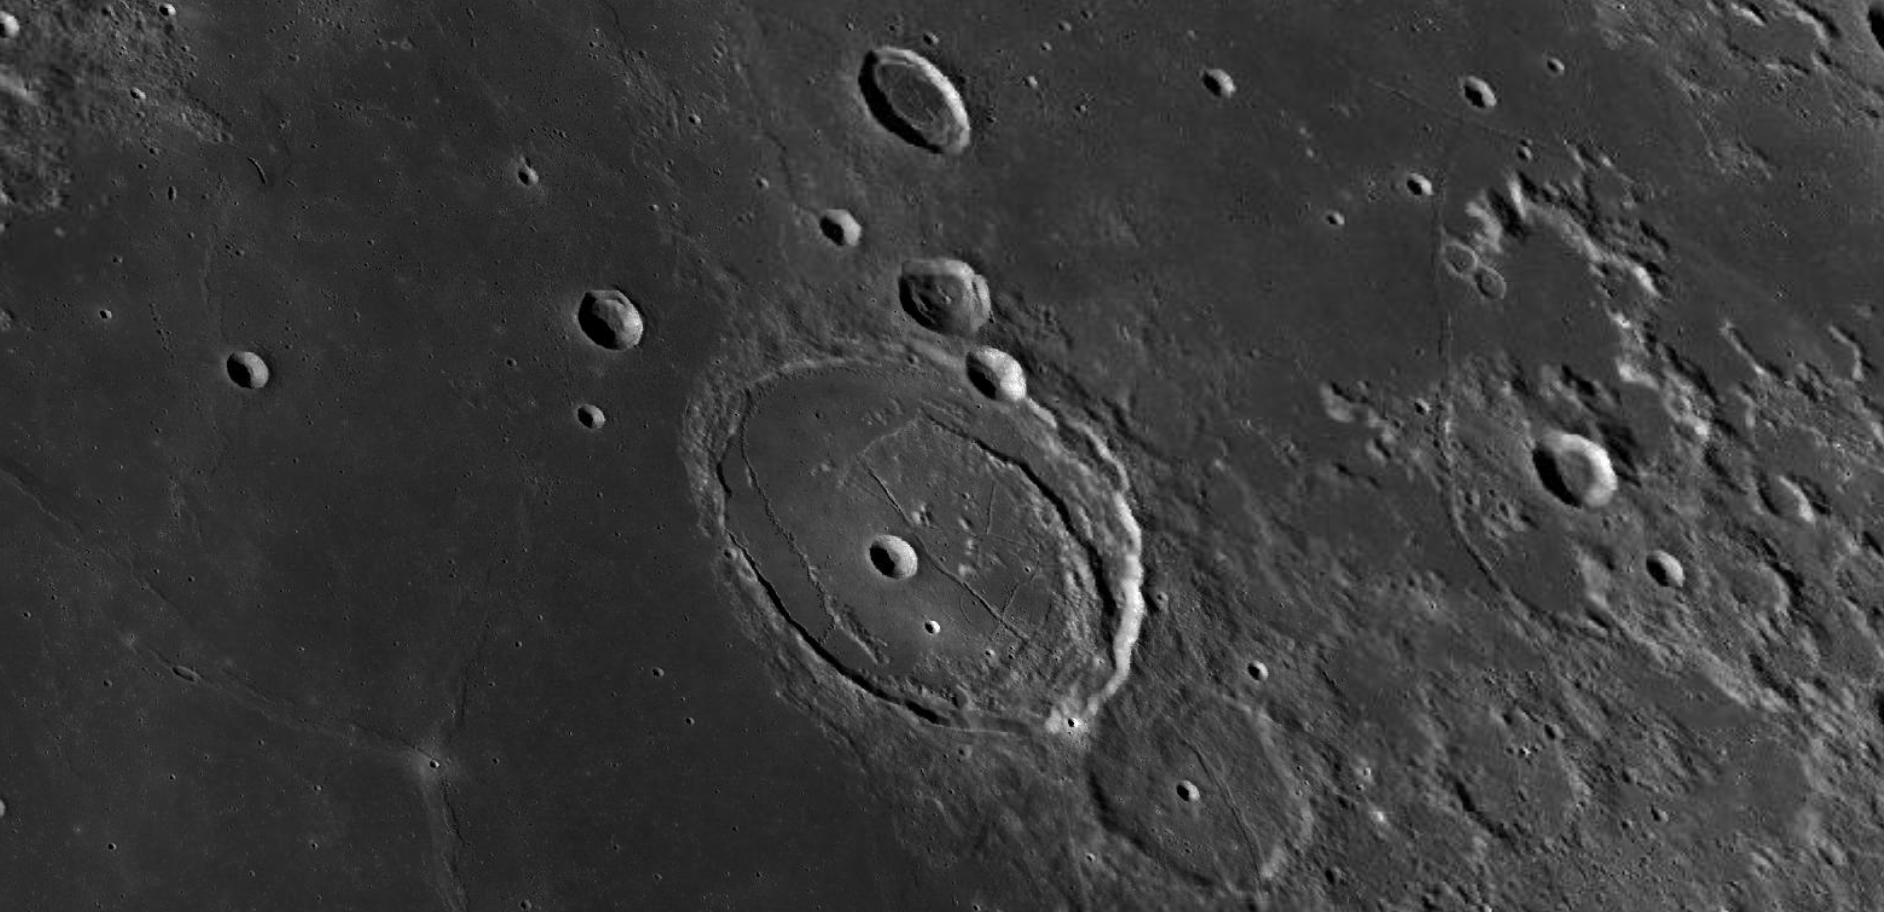crater: (682, 263, 1182, 755), (829, 24, 1020, 172), (175, 318, 345, 437), (1149, 41, 1302, 169), (521, 236, 664, 354), (1509, 400, 1634, 527), (1424, 226, 1531, 314)
